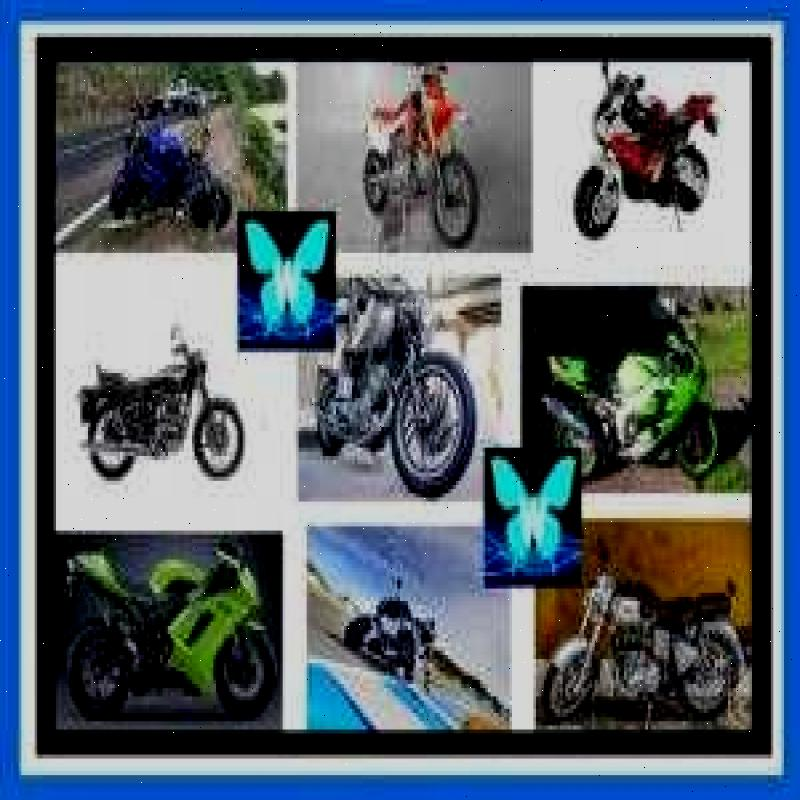bike: (50, 536, 285, 710), (548, 535, 757, 723), (68, 296, 252, 499), (313, 270, 485, 483), (536, 332, 734, 485), (570, 58, 727, 242), (339, 62, 498, 238), (102, 62, 237, 224), (352, 567, 449, 683)
